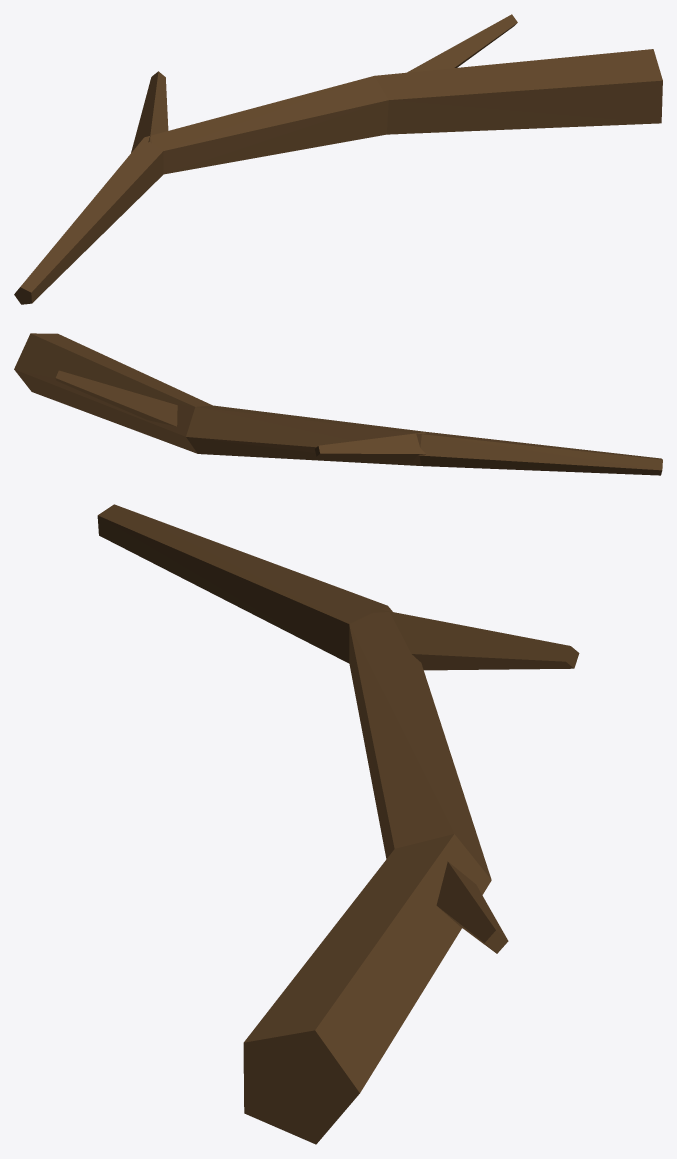
The model's file is HS_LP_Branch_01.fbx.
3 views of the same model, one above another, from view 1: azimuth 30°, elevation 25°; view 2: azimuth 150°, elevation 25°; view 3: azimuth 270°, elevation 25° (orthographic). The views are drawn at different scales.
Parts seen in each view (by area): view 1: HS_LP_Branch_01; view 2: HS_LP_Branch_01; view 3: HS_LP_Branch_01.
Part boxes in pixels (left/top/right/bottom): HS_LP_Branch_01: left=14, top=14, right=662, bottom=304; HS_LP_Branch_01: left=14, top=333, right=662, bottom=475; HS_LP_Branch_01: left=97, top=504, right=579, bottom=1144.
Bounding box in the file's own units: 89.31 × 11.34 × 31.59.
